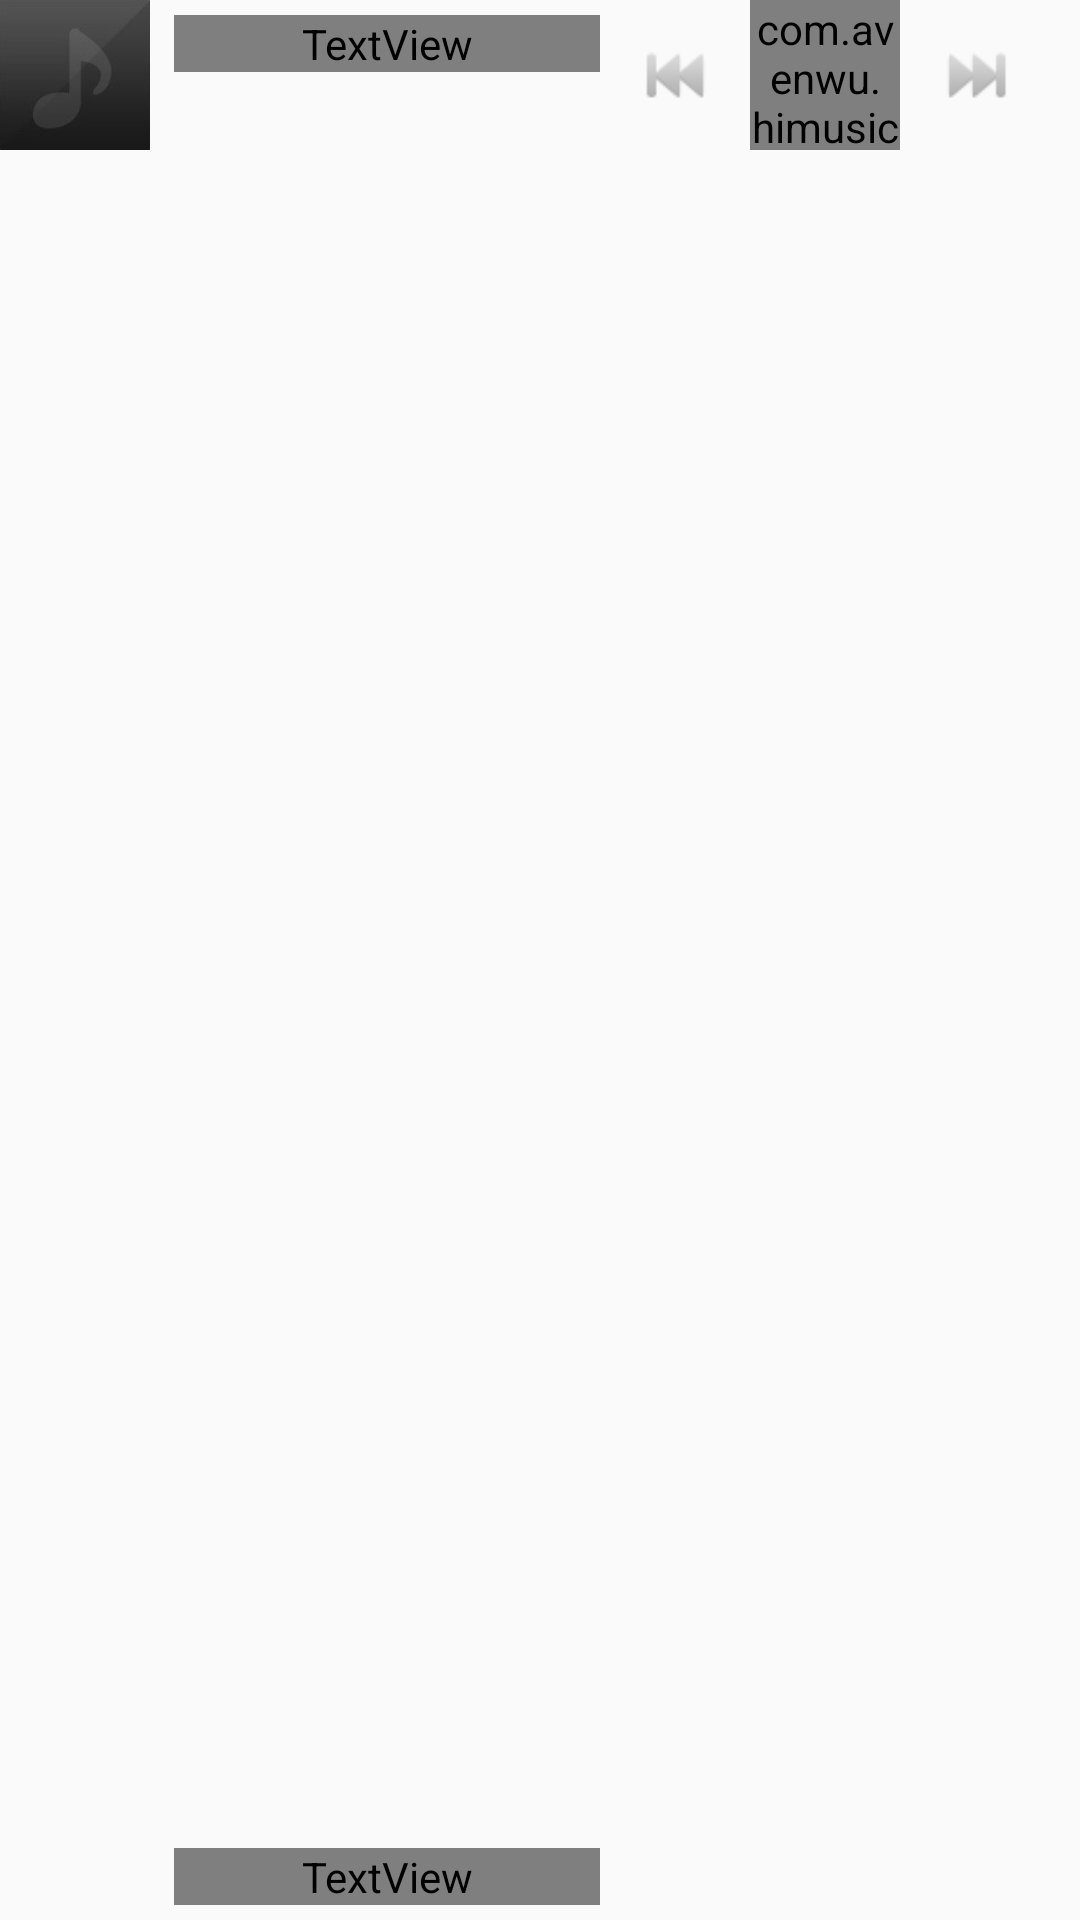

Screen size 1080 x 1920. Icon name, then its center in pixels as point (x, y):
widget album: point (75, 75)
